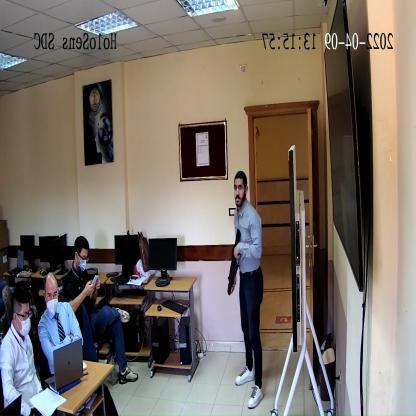handgun: (227, 229, 242, 294)
